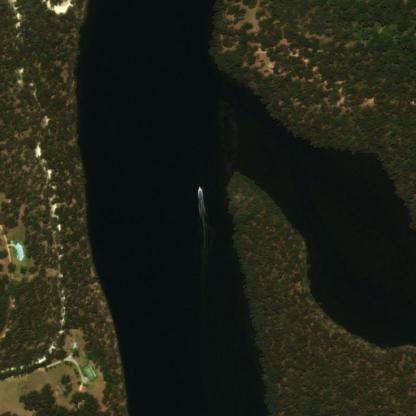ship: (191, 180, 209, 202)
